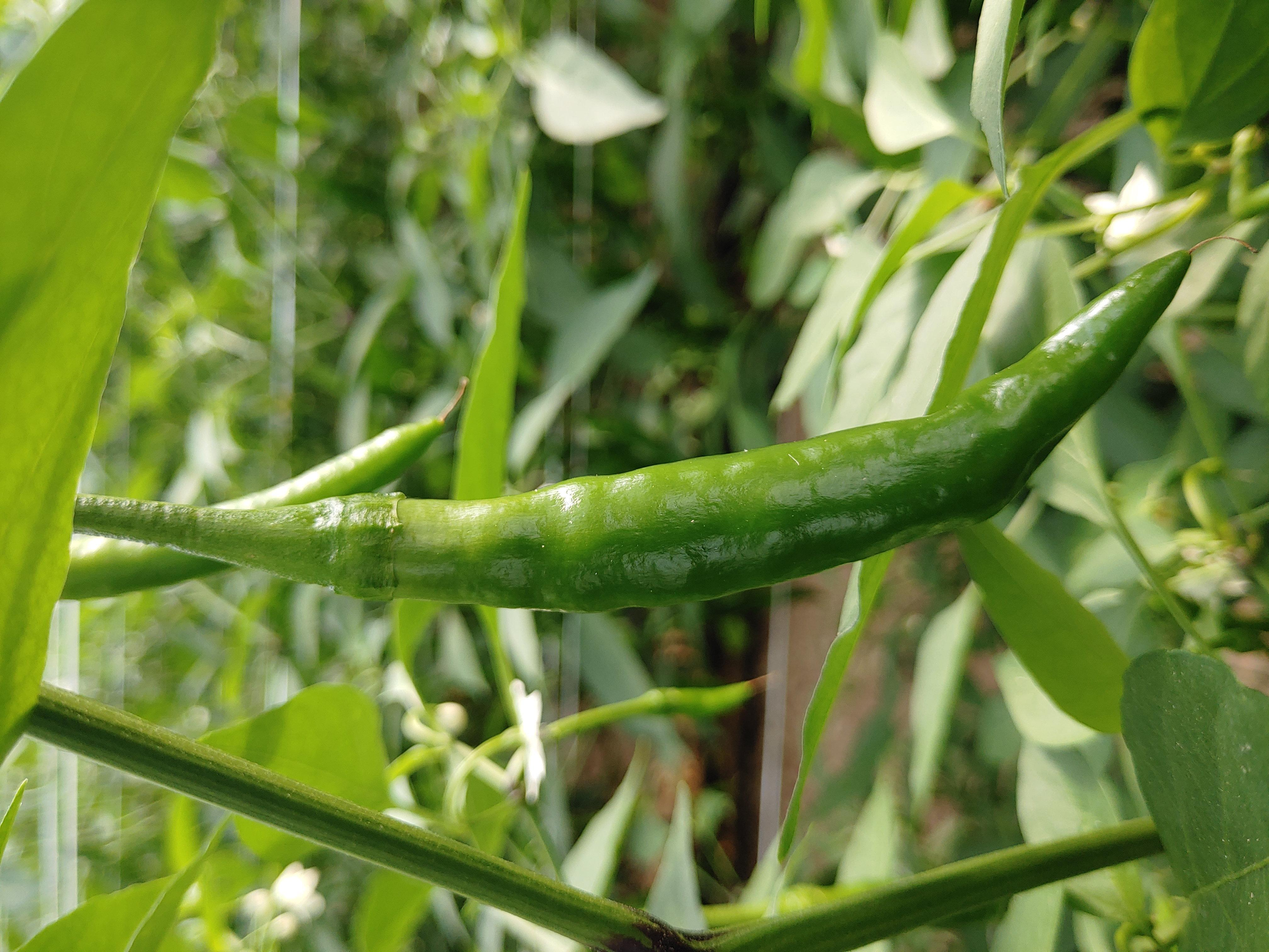Buah Cabai Sehat: (300, 229, 1202, 617)
